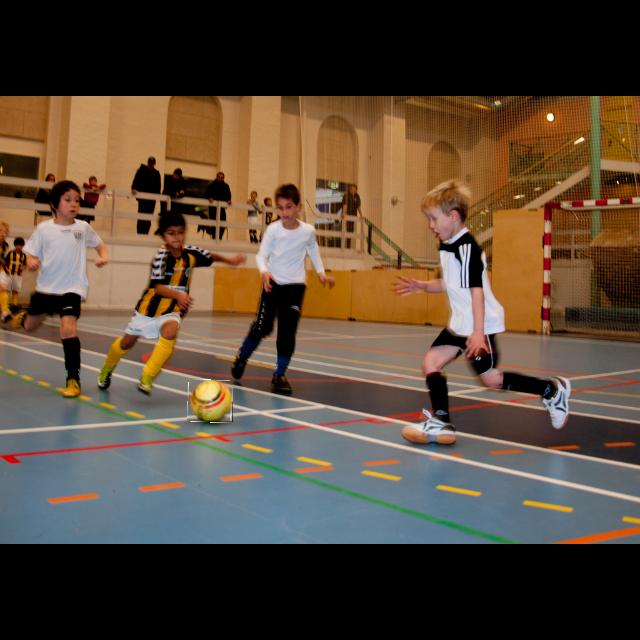Football: (187, 380, 233, 422)
